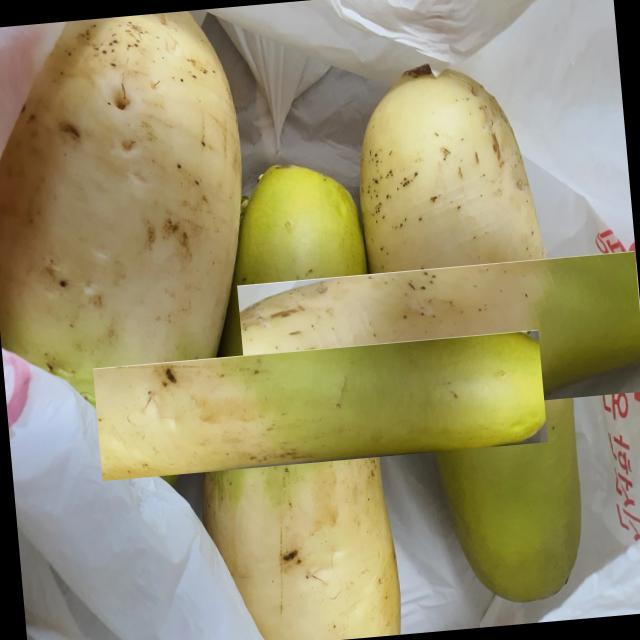radish: (310, 172, 637, 499), (168, 253, 472, 558)
